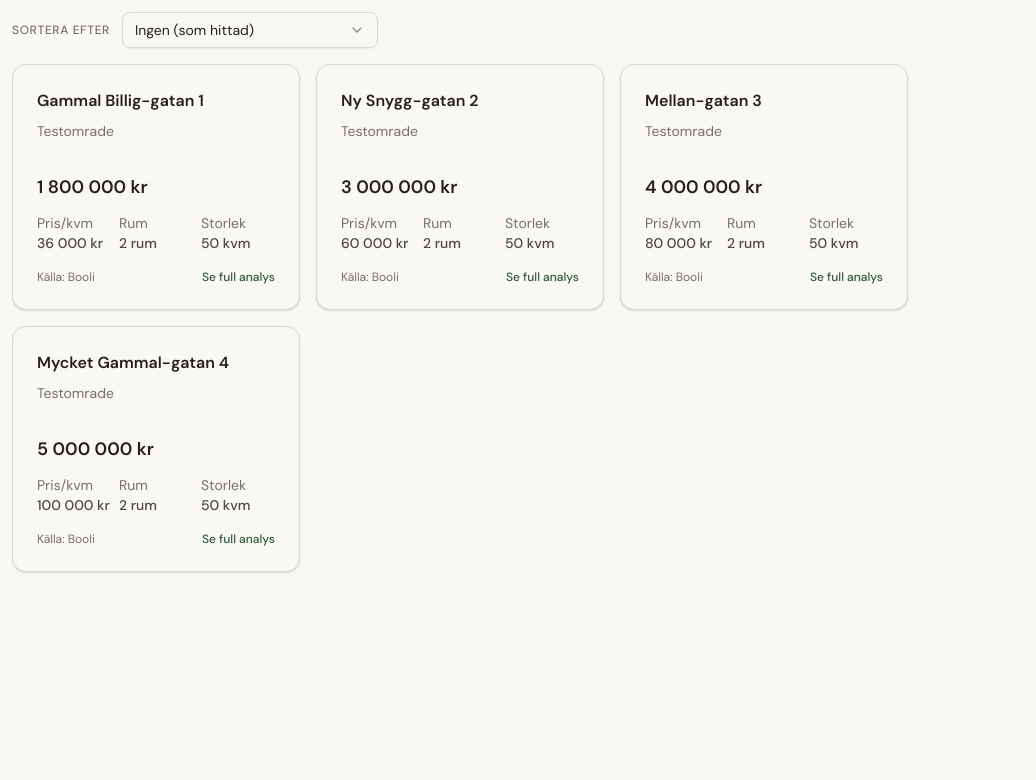
it: DiscoveryResults › degrades to the unranked grid with an error banner when scoring throws
Click the dropdown at (250, 30), box [122,12,378,48]
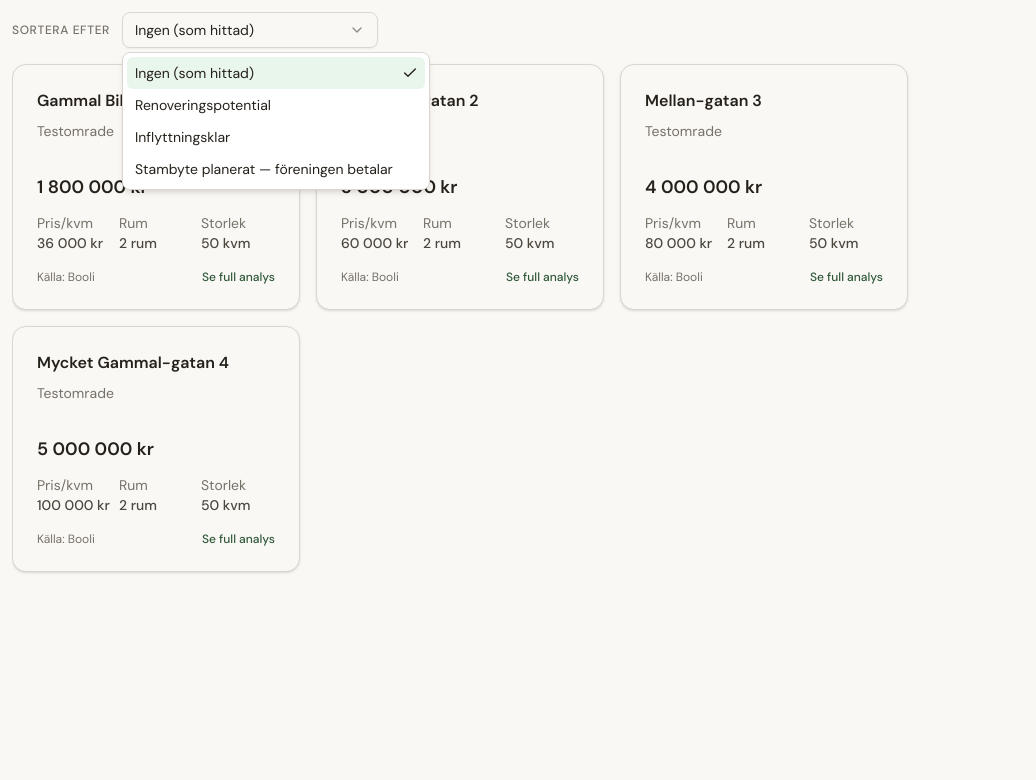
Click the option "Renoveringspotential" at (203, 105), box [135,96,271,114]
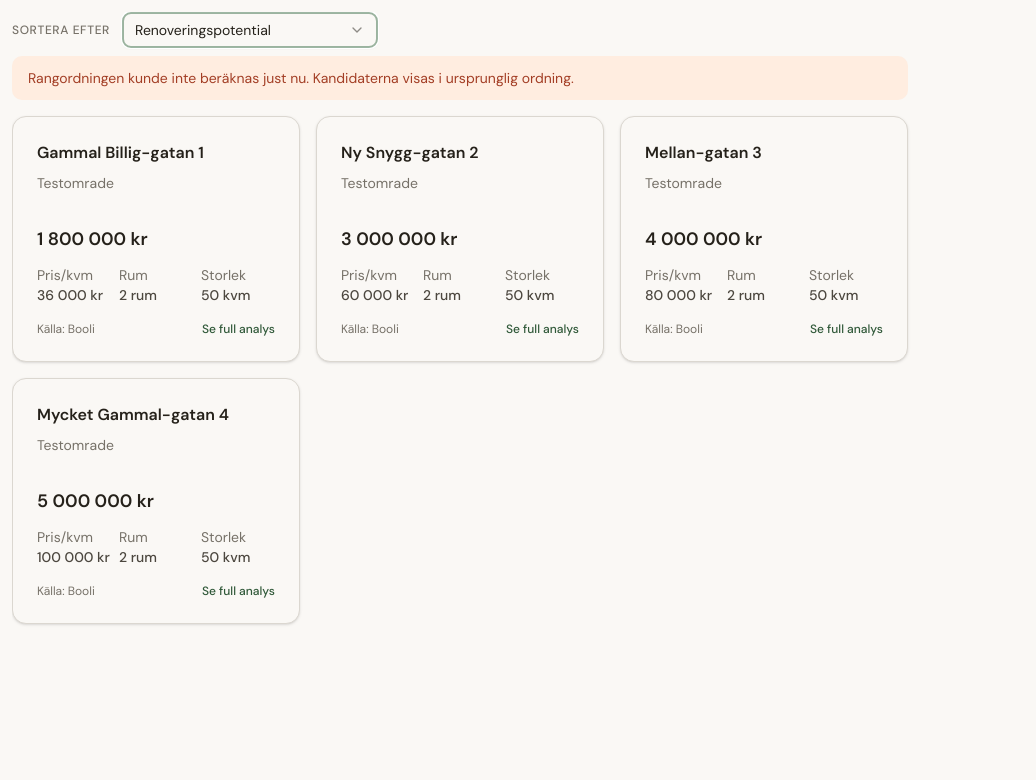
expect the text "Gammal Billig-gatan 1" is shown 4 times: met, box [37,141,204,165]; [341,141,479,165]; [645,141,762,165]; [37,403,229,427]
expect the text "Rangordningen kunde inte beräknas just nu. Kandidaterna visas i ursprunglig ordning." is shown: met, box [28,69,574,87]
